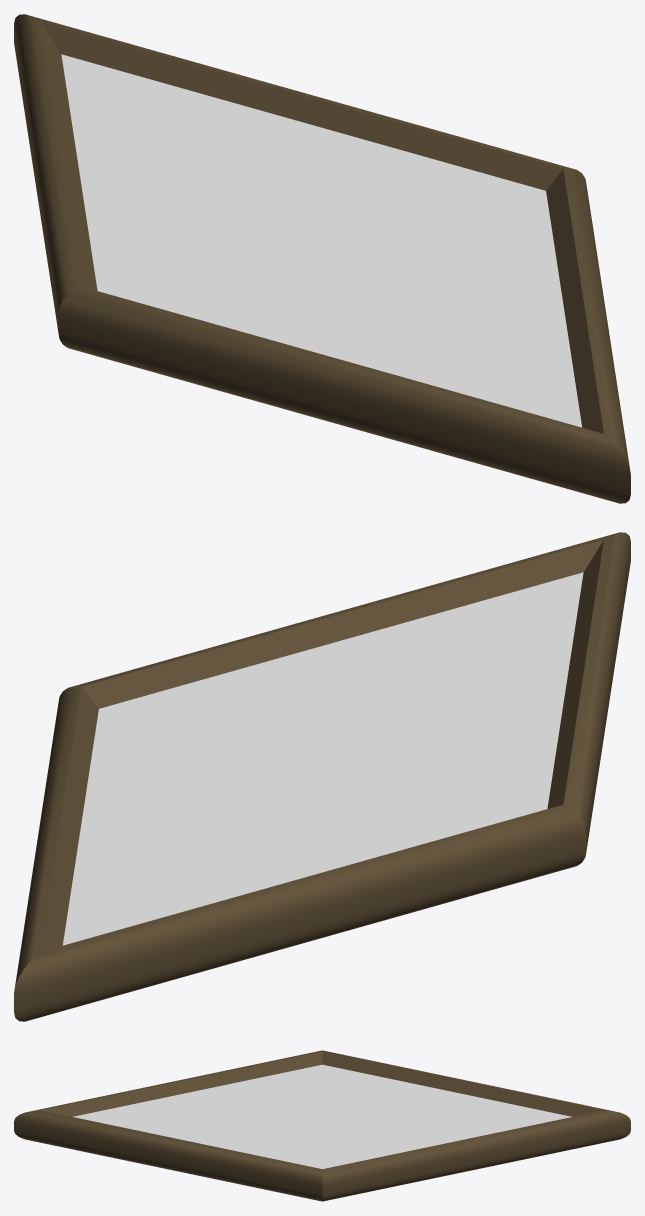
File: MirrorModel_03.fbx
3 views of the same model, one above another, from view 1: azimuth 30°, elevation 25°; view 2: azimuth 150°, elevation 25°; view 3: azimuth 270°, elevation 25° (orthographic). The views are drawn at different scales.
Parts seen in each view (by area): view 1: MirrorModel_03; view 2: MirrorModel_03; view 3: MirrorModel_03.
Boxes of the visible parts, x1=… form: MirrorModel_03: x1=14, y1=14, x2=630, y2=503; MirrorModel_03: x1=14, y1=532, x2=630, y2=1021; MirrorModel_03: x1=14, y1=1050, x2=630, y2=1201.
Size of the model in its own units: 200 by 22.57 by 405.
